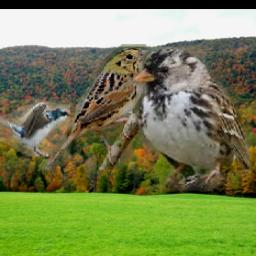Sparrow: (134, 47, 252, 192), (41, 45, 151, 171)
Swallow: (0, 100, 70, 158)
